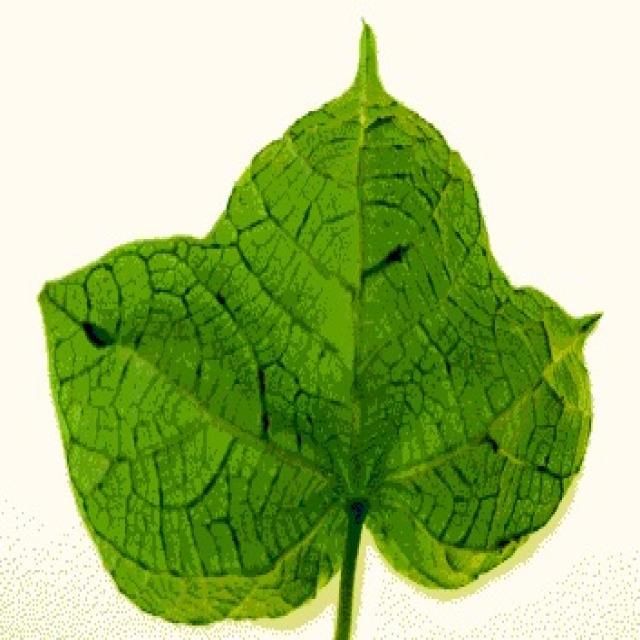Leaf Curl Virus: (133, 249, 520, 536)
